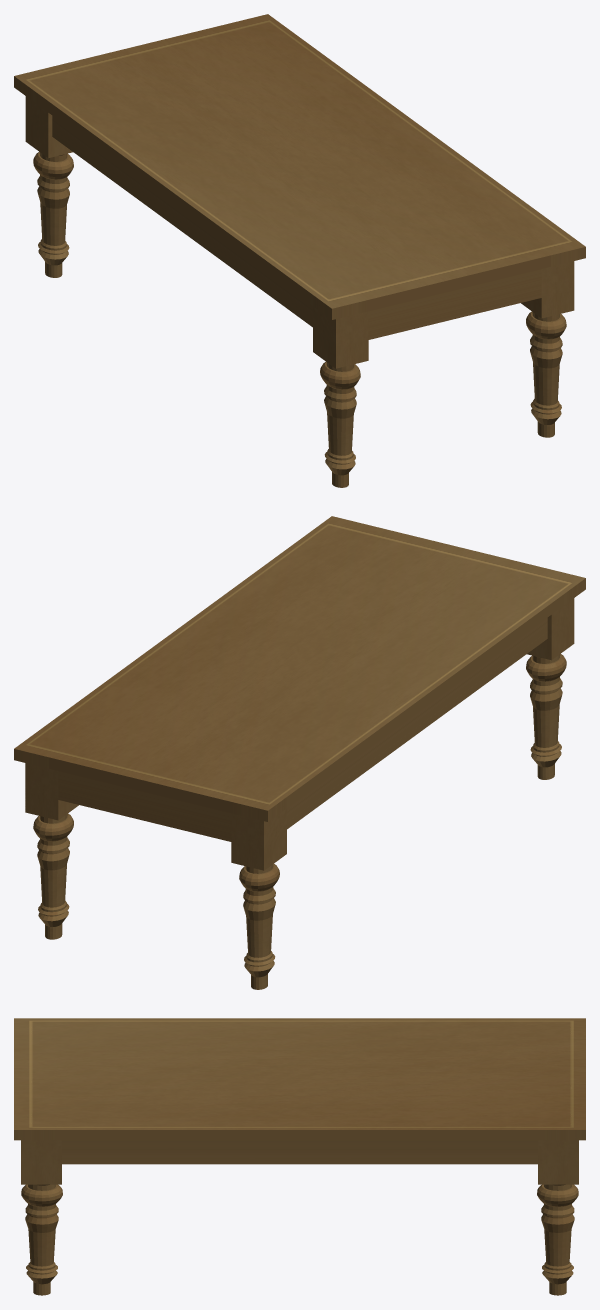
The model's file is classic table.fbx.
The picture shows the model from 3 angles, top to bottom: view 1: azimuth 30°, elevation 25°; view 2: azimuth 150°, elevation 25°; view 3: azimuth 270°, elevation 25°; orthographic projection. The views are drawn at different scales.
Parts seen in each view (by area): view 1: classic table; view 2: classic table; view 3: classic table.
Part boxes in pixels (x1,y1,x2,y2): classic table: (14,14,585,487); classic table: (14,516,585,989); classic table: (14,1018,585,1295).
Bounding box in the file's own units: 75.08 × 54.36 × 163.
1 material, 1 textured.
